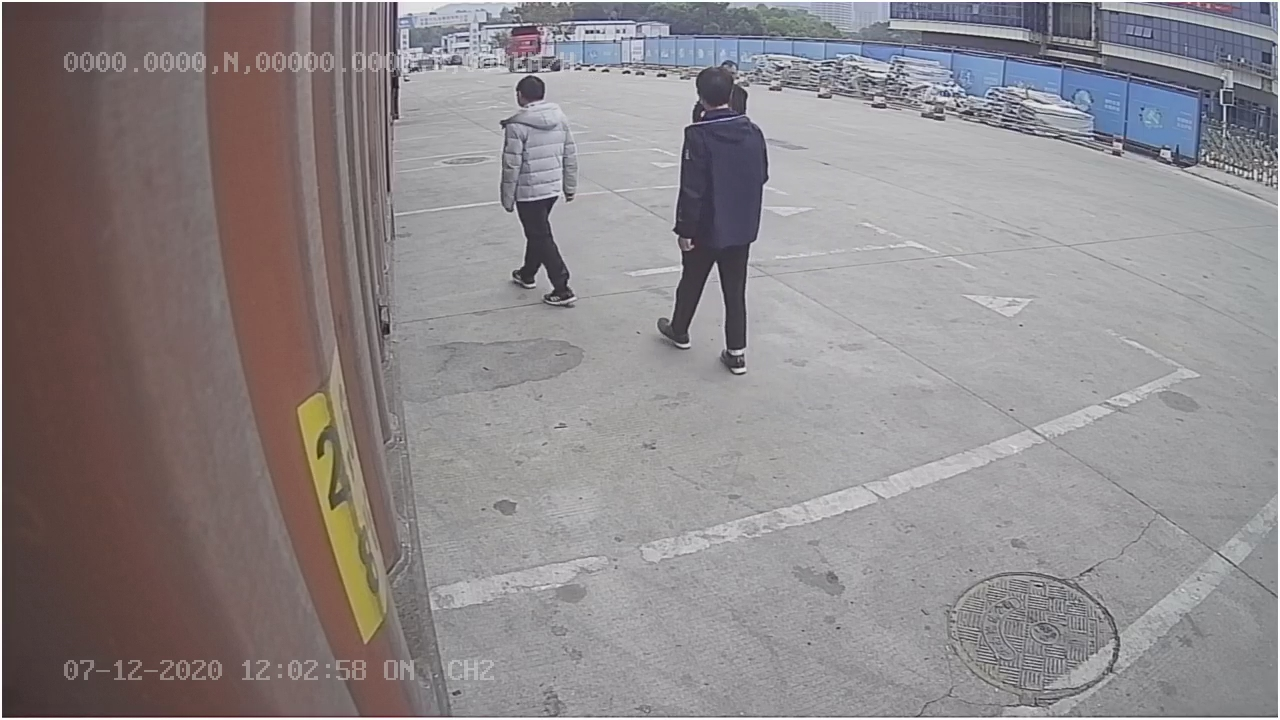person: (497, 71, 585, 316)
